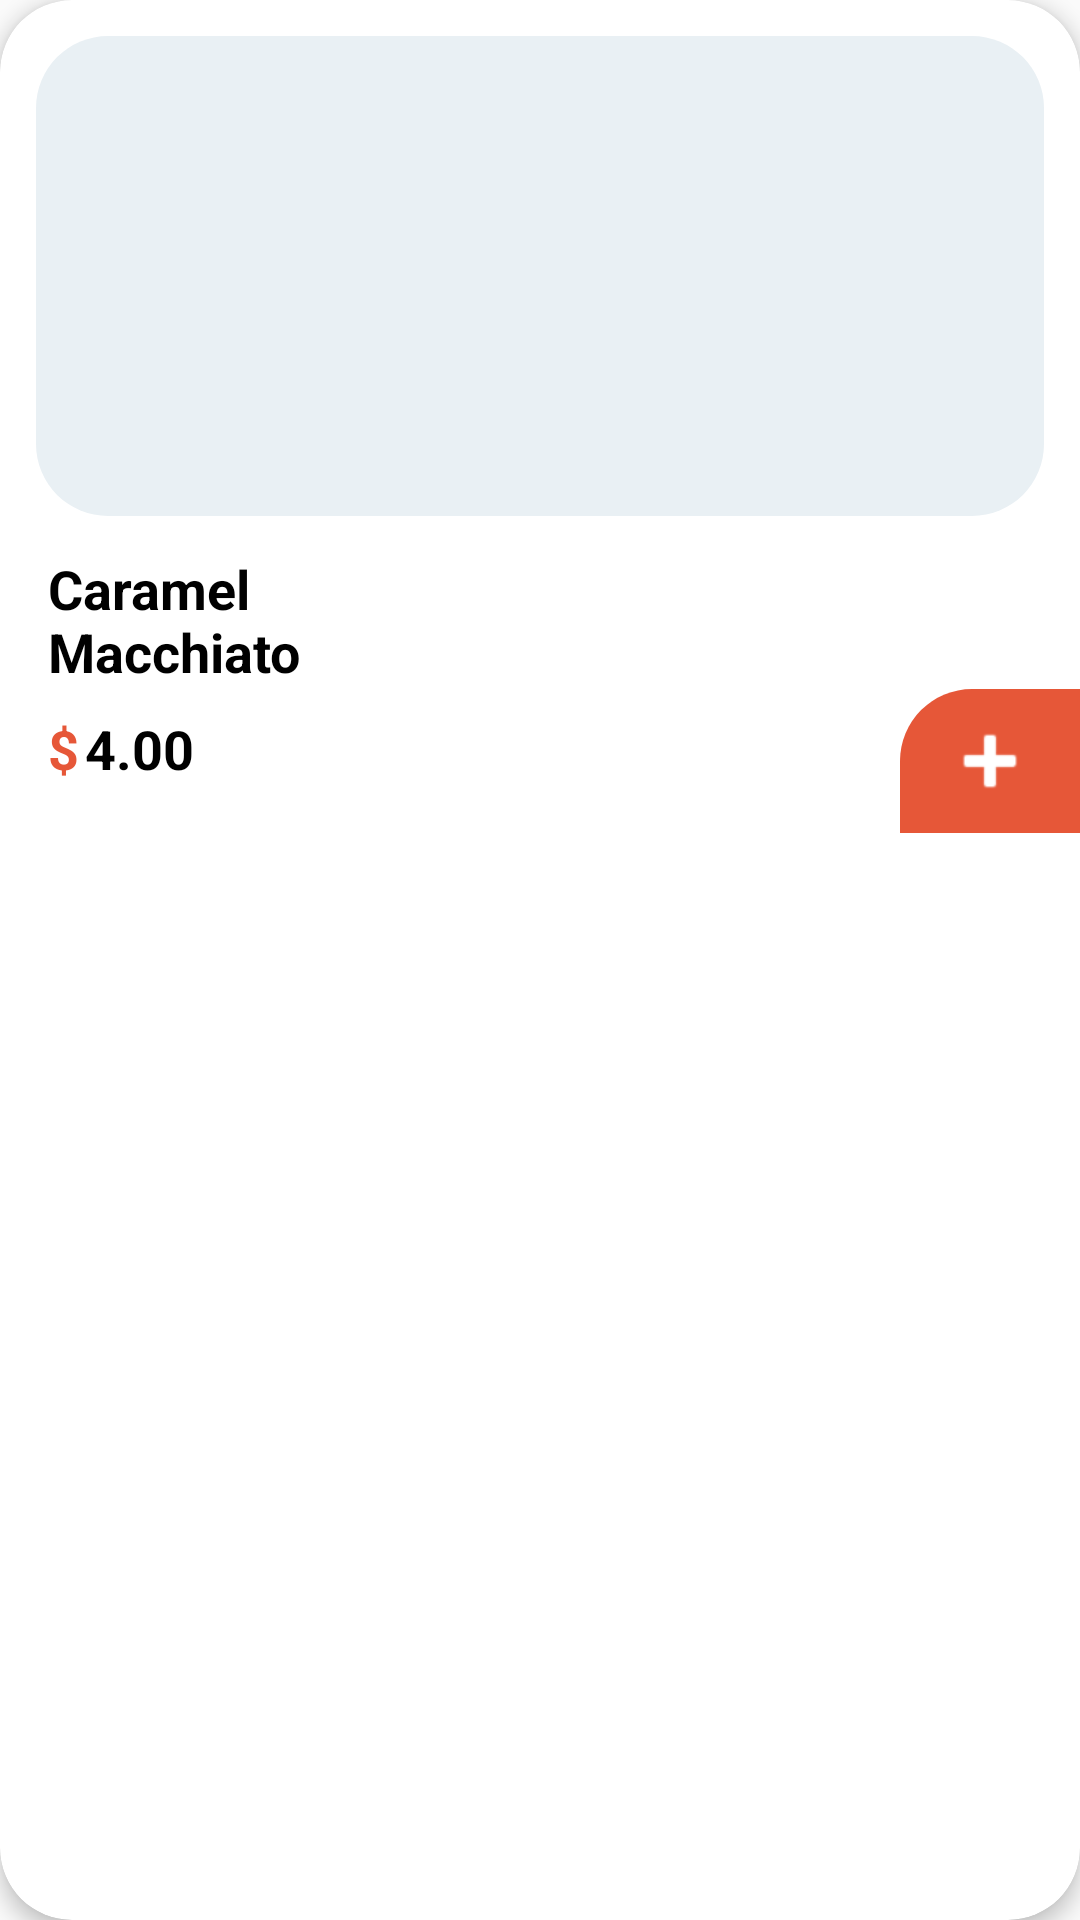

Screen size 1080 × 1920. Icon name, then its box in pixels as box(x1, y1, x2, y2):
Agregar al carrito: box(900, 689, 1080, 833)
